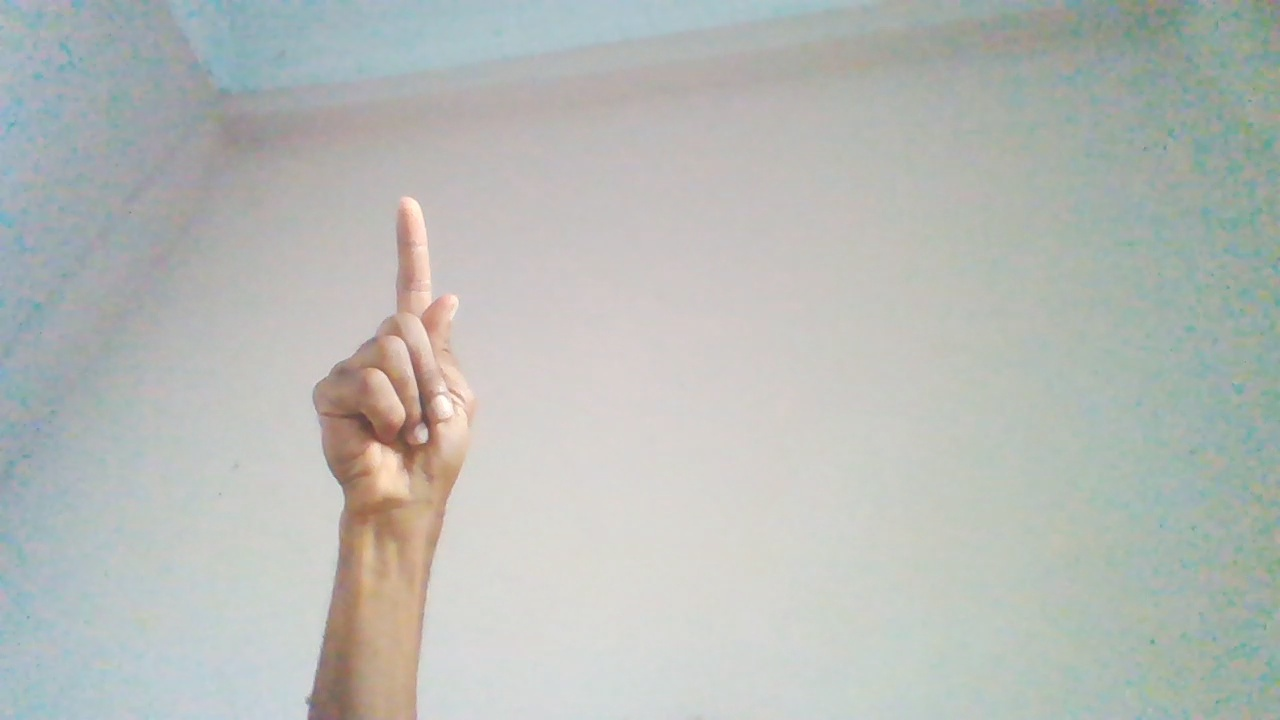ne: (312, 194, 493, 566)
